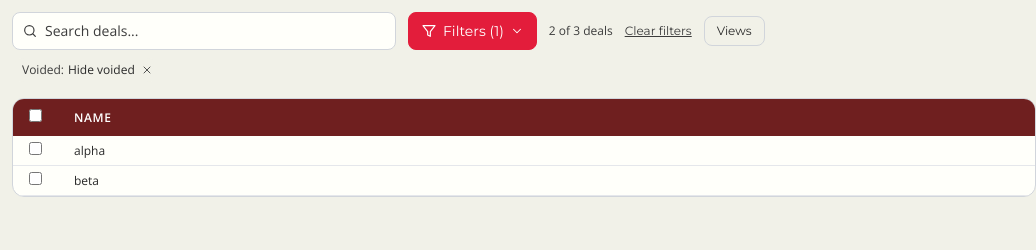
Scenario: selection › select-all covers the VISIBLE (filtered) set
Click the checkbox named "Select all visible". click: (36, 116)
box: [29,109,42,122]
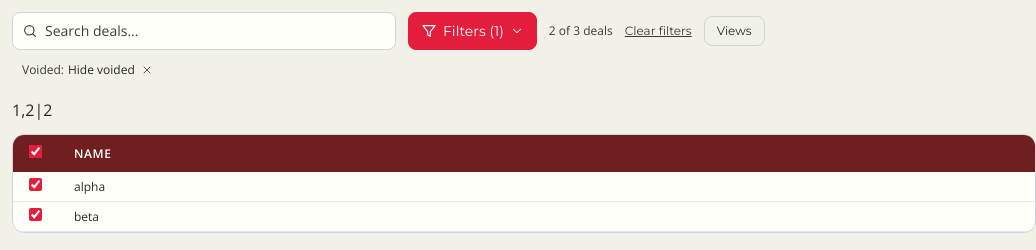
Result: the text with test id "bulk" reads "1,2|2" at [12,99,34,121]
